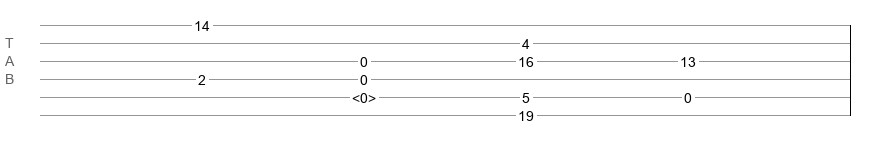0: (360, 54, 368, 64), (360, 72, 368, 82), (684, 90, 692, 100)
13: (680, 54, 696, 64)
14: (194, 18, 210, 28)
16: (518, 54, 534, 64)
19: (518, 108, 534, 118)
2: (198, 72, 206, 82)
4: (522, 36, 530, 46)
5: (522, 90, 530, 100)
harmonic: (352, 90, 376, 100)
